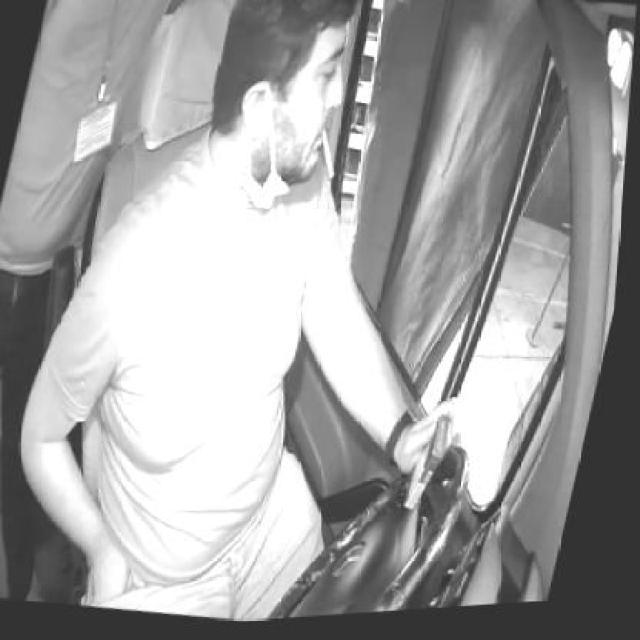Inattentive: (208, 0, 359, 192)
